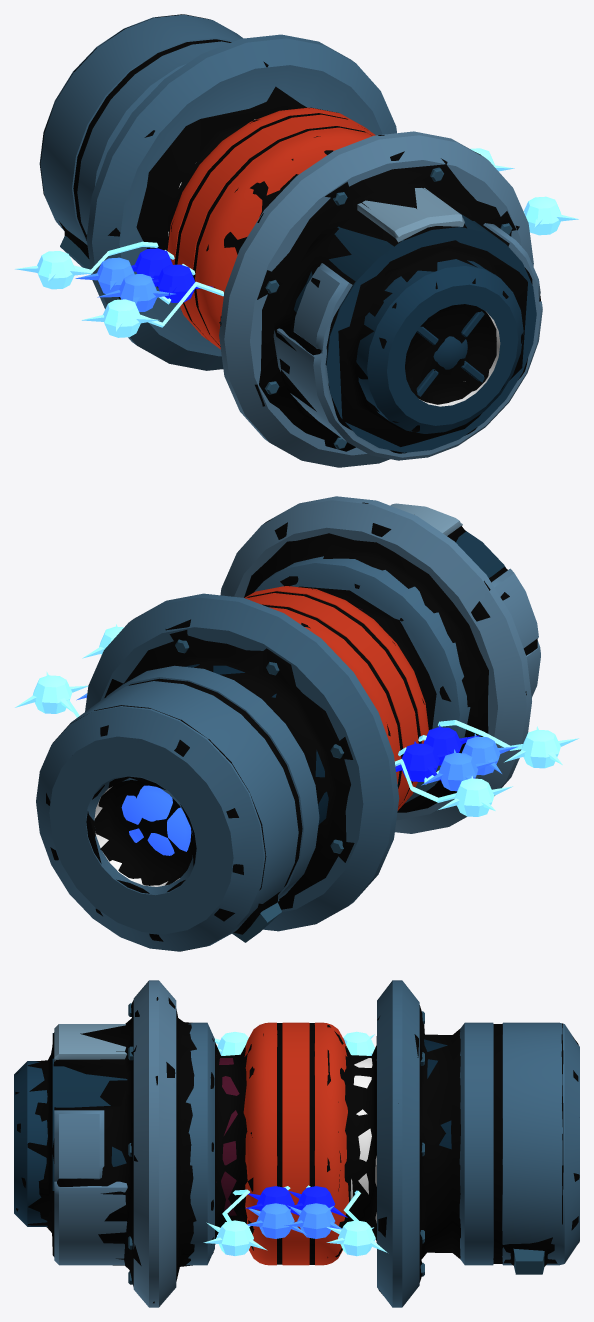
Rendered from charge-cannon.glb.
3 renders of one model, top to bottom at view 1: azimuth 30°, elevation 25°; view 2: azimuth 150°, elevation 25°; view 3: azimuth 270°, elevation 25°, orthographic. The views are drawn at different scales.
Parts seen in each view (by area): view 1: charge-cannon, charge-cannon_outline, charge-cannon-sparks-260, charge-cannon-sparks-279, charge-cannon-sparks-298; view 2: charge-cannon, charge-cannon_outline, charge-cannon-sparks-298, charge-cannon-sparks-279, charge-cannon-sparks-260; view 3: charge-cannon, charge-cannon_outline, charge-cannon-sparks-260, charge-cannon-sparks-279, charge-cannon-sparks-298.
Boxes of the visible parts, x1=… form: charge-cannon: x1=39, y1=14, x2=542, y2=467; charge-cannon_outline: x1=40, y1=14, x2=540, y2=453; charge-cannon-sparks-260: x1=15, y1=196, x2=578, y2=302; charge-cannon-sparks-279: x1=75, y1=250, x2=223, y2=337; charge-cannon-sparks-298: x1=97, y1=148, x2=514, y2=311; charge-cannon: x1=36, y1=496, x2=540, y2=951; charge-cannon_outline: x1=46, y1=502, x2=537, y2=951; charge-cannon-sparks-298: x1=15, y1=671, x2=517, y2=781; charge-cannon-sparks-279: x1=398, y1=720, x2=578, y2=791; charge-cannon-sparks-260: x1=76, y1=624, x2=512, y2=816; charge-cannon: x1=14, y1=980, x2=579, y2=1307; charge-cannon_outline: x1=15, y1=997, x2=579, y2=1303; charge-cannon-sparks-260: x1=203, y1=1031, x2=374, y2=1255; charge-cannon-sparks-279: x1=214, y1=1032, x2=347, y2=1238; charge-cannon-sparks-298: x1=245, y1=1186, x2=387, y2=1256.
Size of the model in its own units: 1.03 by 0.675 by 1.16.
Materials: 21 (14 with a texture image).
